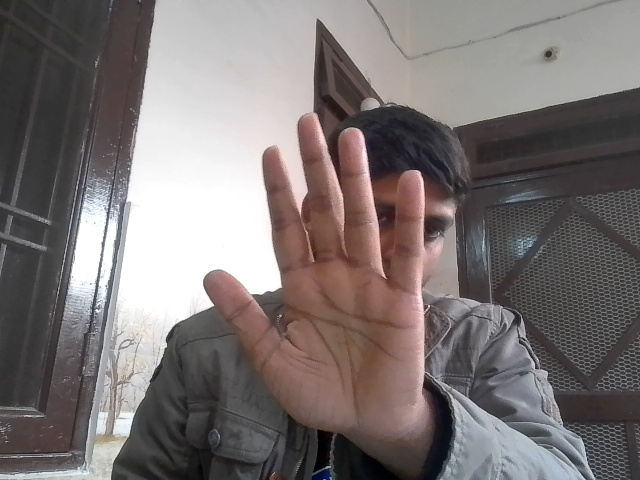Hello: (187, 102, 442, 449)
